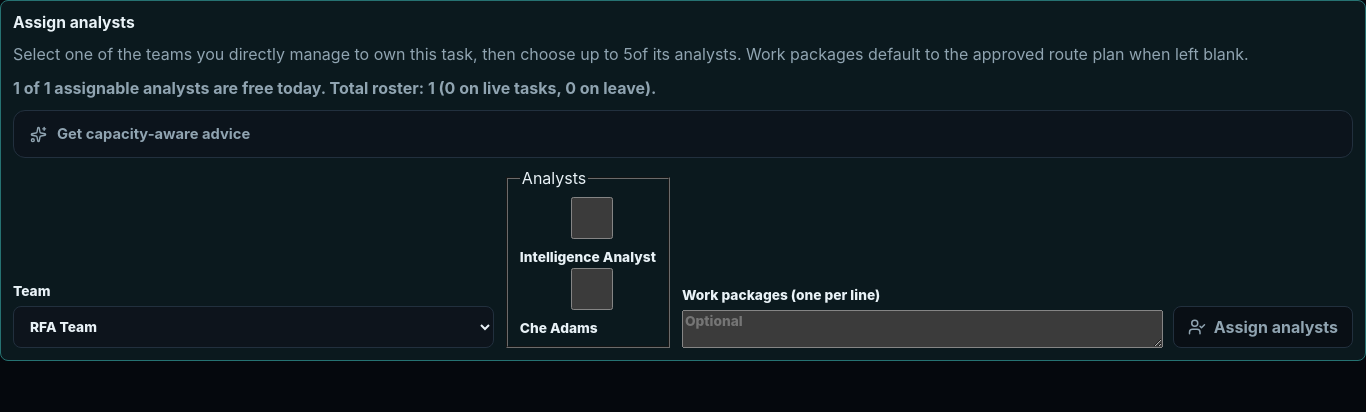
Scenario: shows an assignment failure message
Click the checkbox labelled "Intelligence Analyst" at (592, 218), box [524, 197, 660, 239]
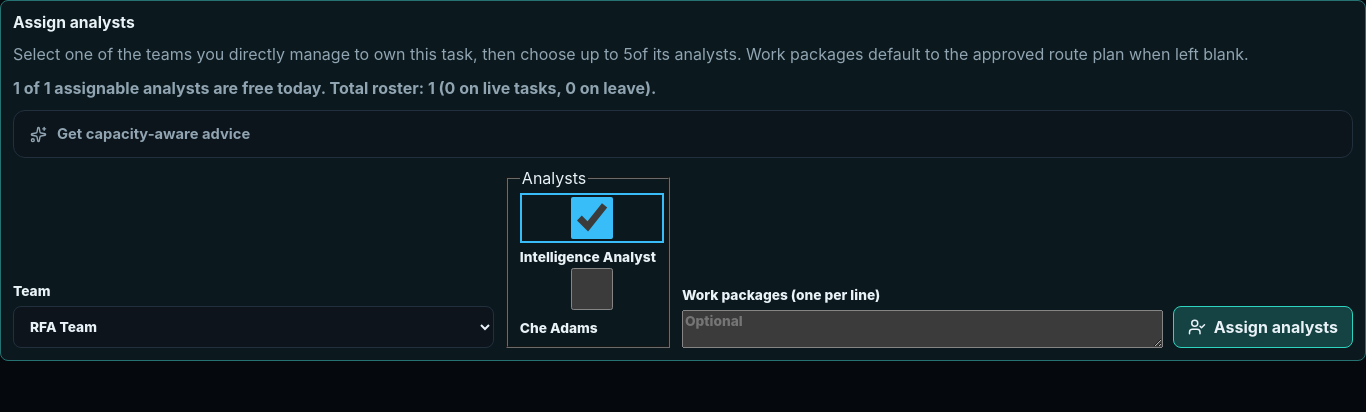
Click the button "Assign analysts" at (1263, 327), box [1173, 306, 1353, 348]
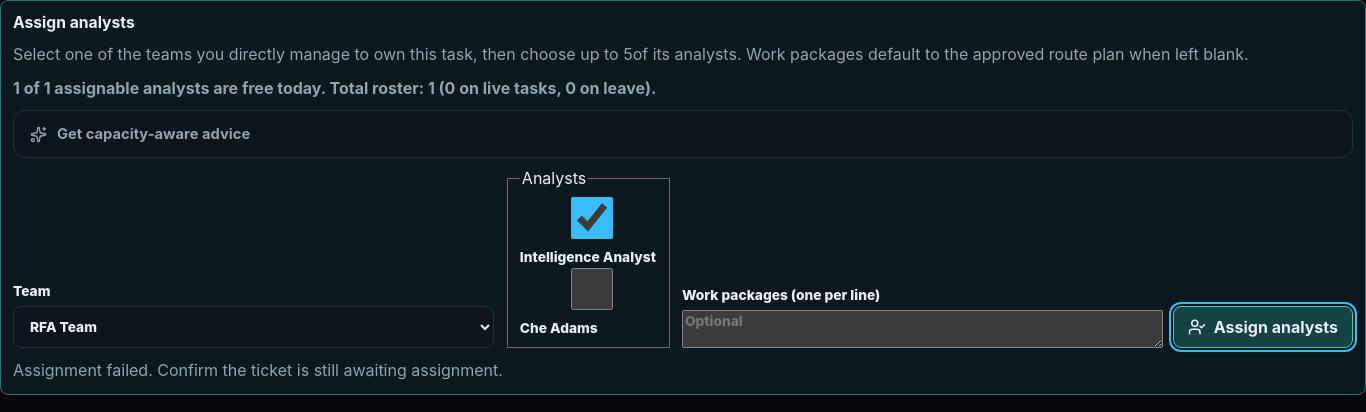
Expected: the text "Assignment failed. Confirm the ticket is still awaiting assignment." is shown, [13, 360, 503, 380]
